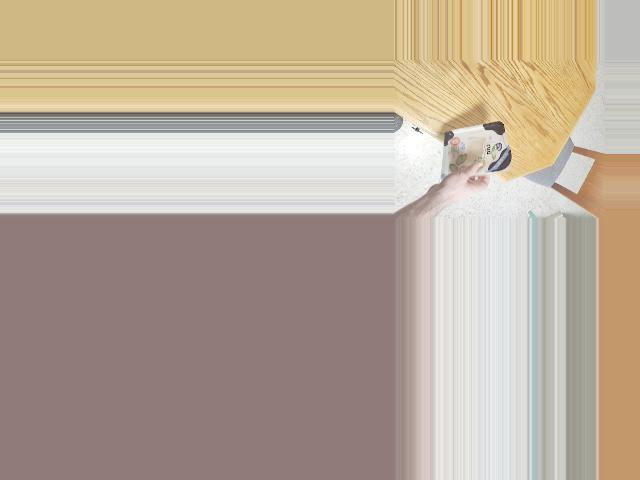cheese: (439, 121, 512, 184)
